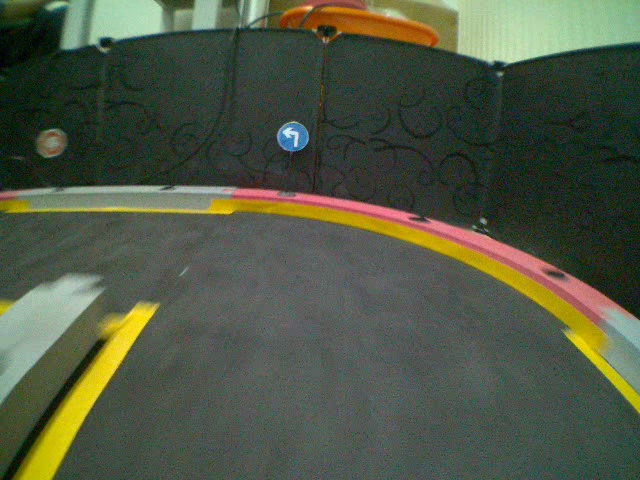Stop: (34, 126, 66, 158)
turn: (276, 116, 312, 156)
